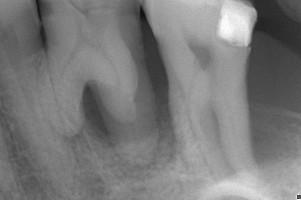Endo-Periodontal Lesion: (82, 84, 110, 140)
